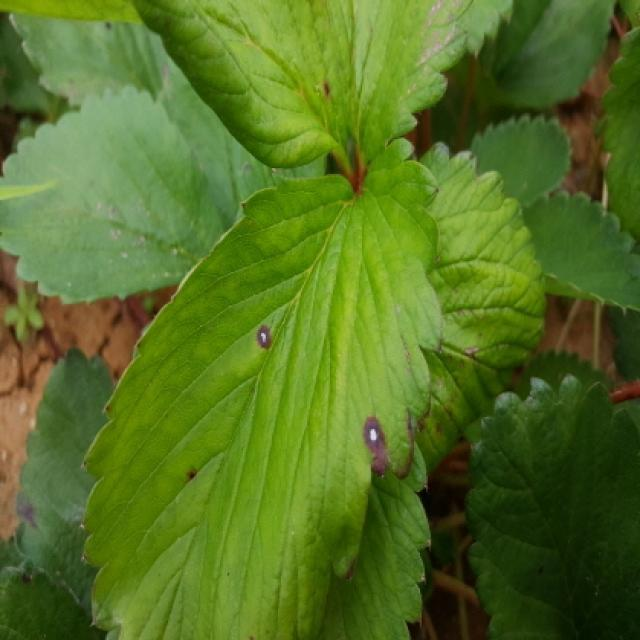Leaf Spot: (79, 161, 444, 638), (128, 0, 477, 181), (419, 141, 551, 477), (11, 346, 115, 613), (8, 12, 170, 107), (0, 557, 103, 638)
